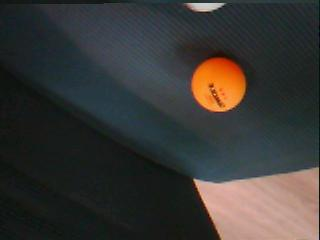oball: (192, 58, 247, 111)
